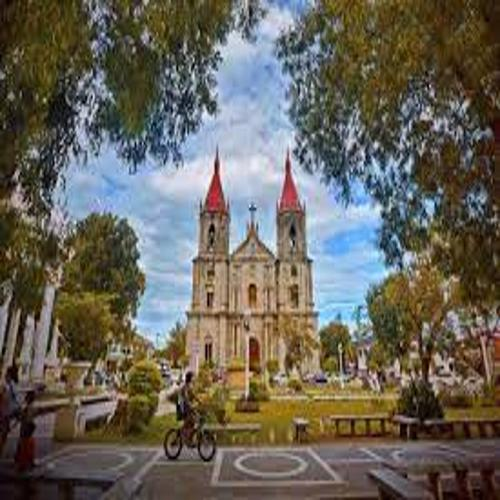Miagao Church: (173, 124, 340, 401)
